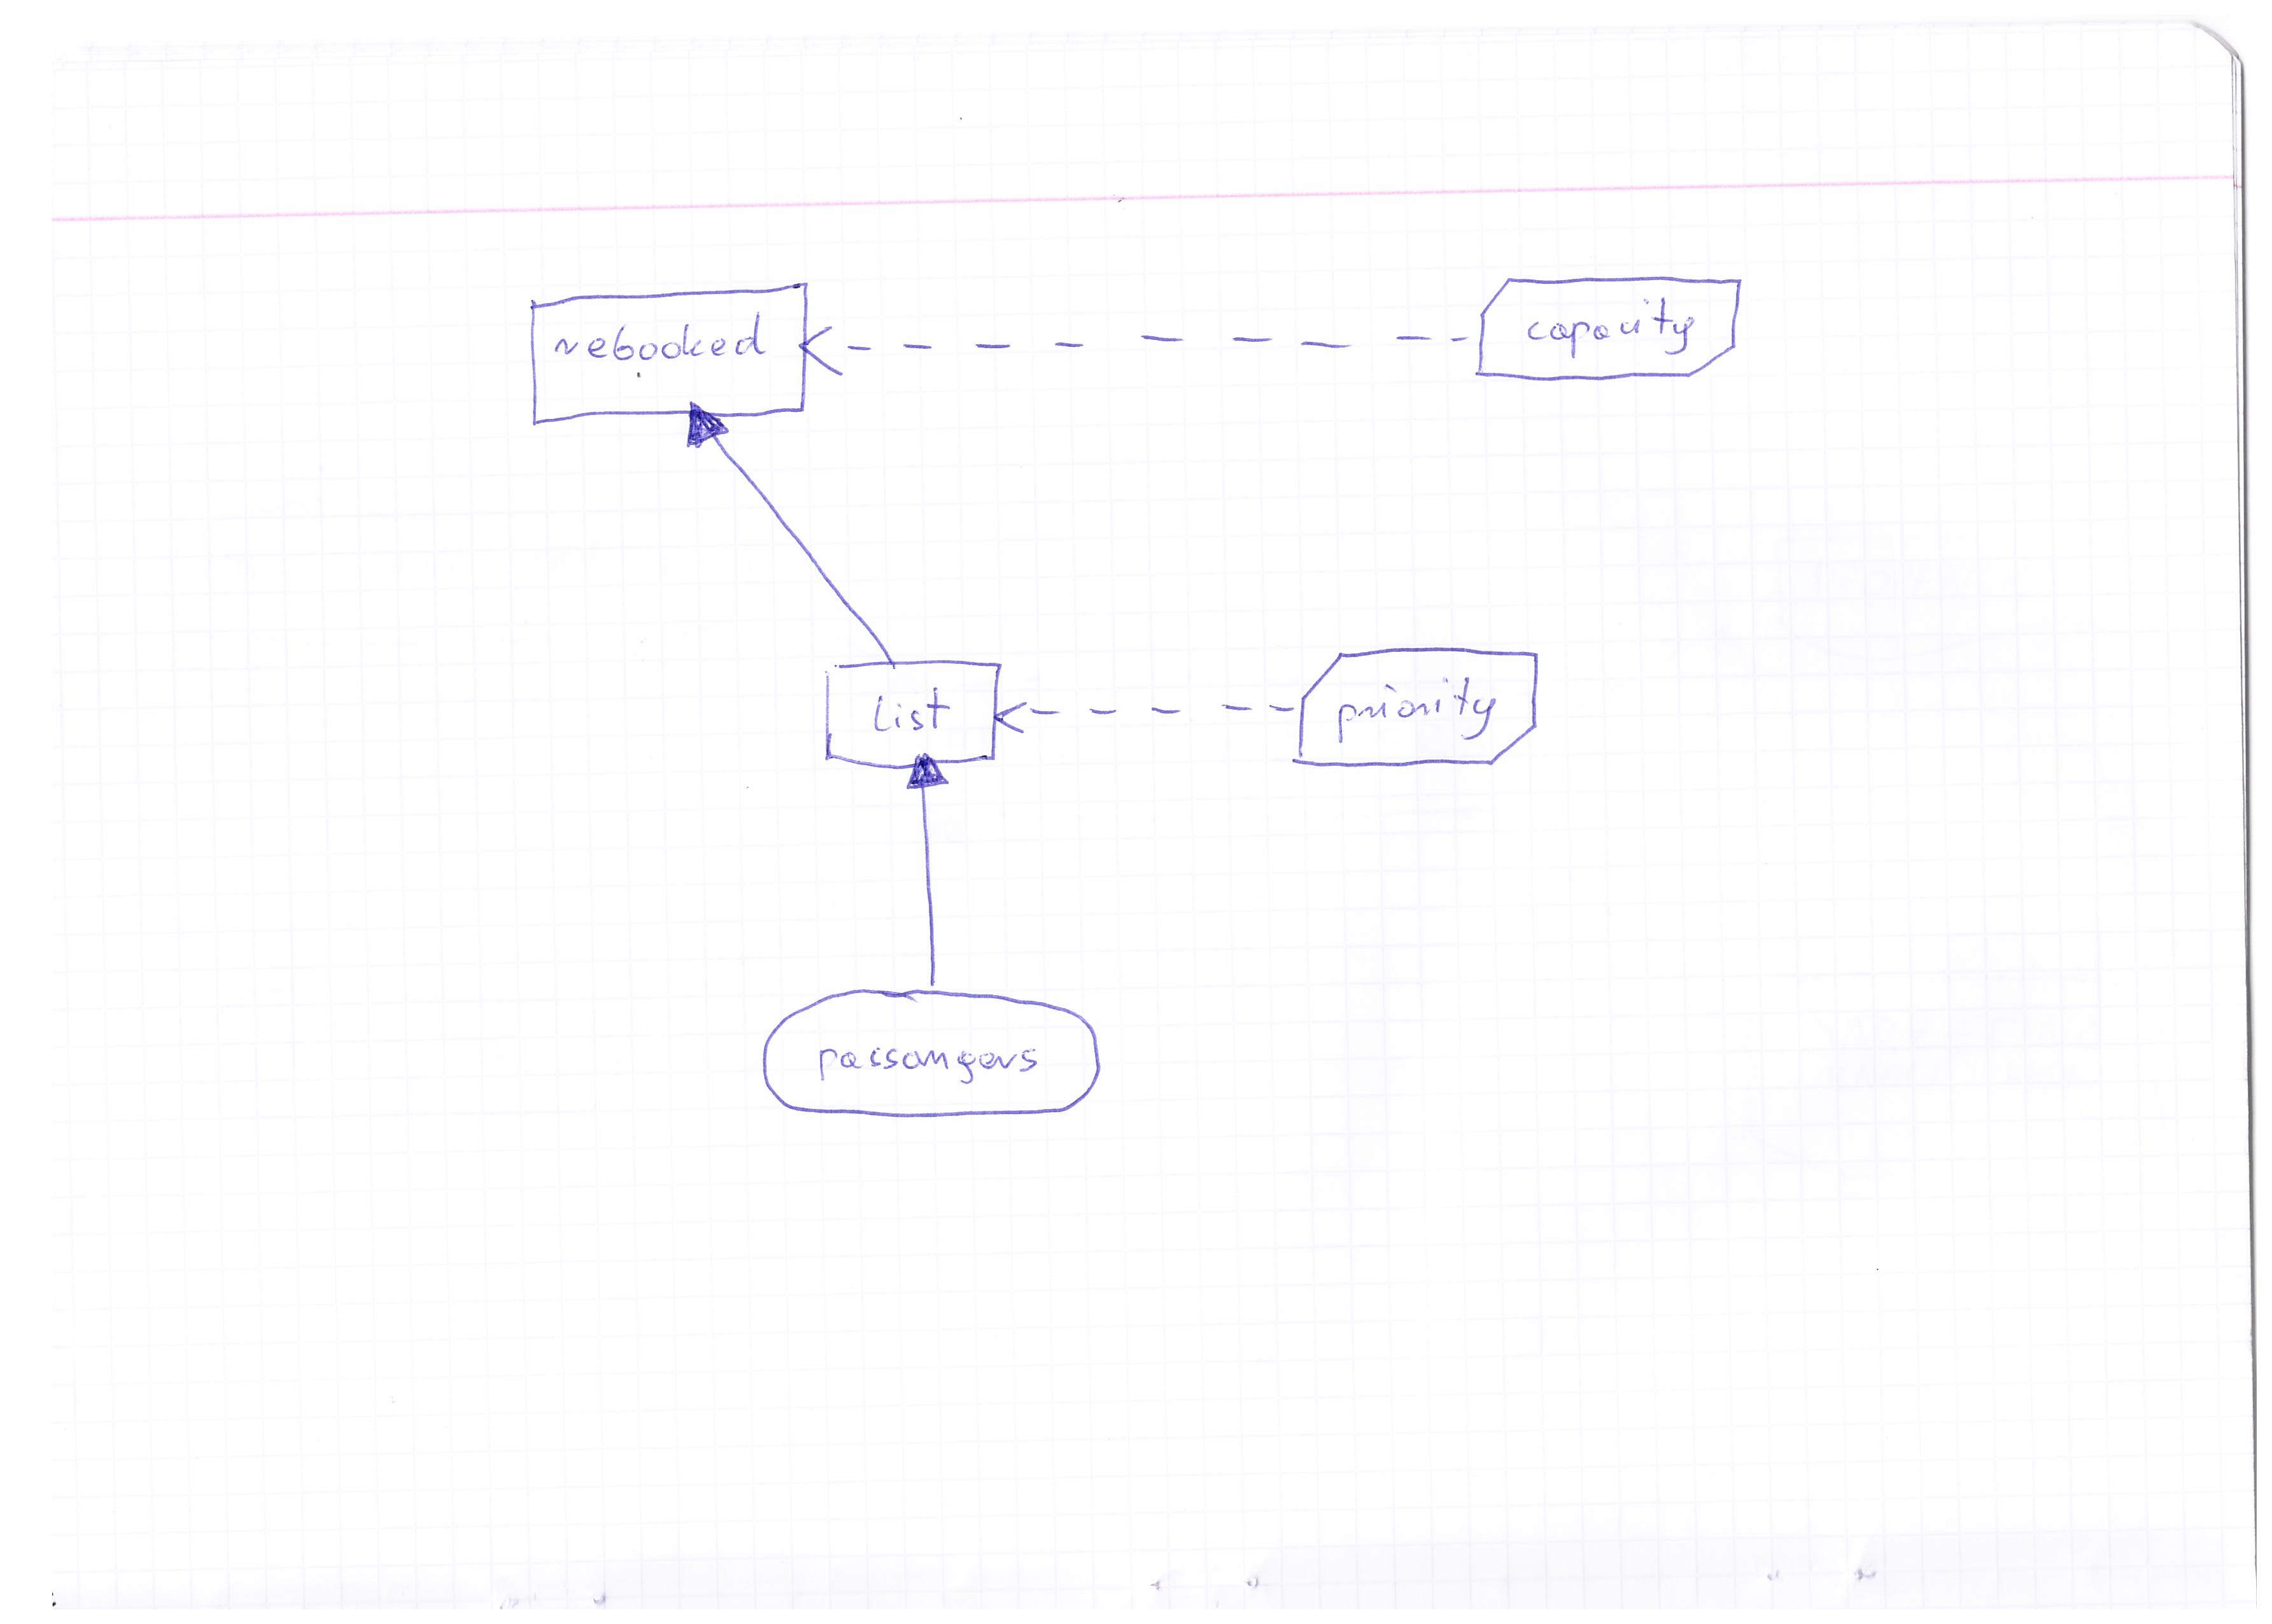arrow_information_requirement: (675, 401, 907, 666), (896, 752, 954, 990)
arrow_knowledge_requirement: (792, 318, 1474, 376), (988, 692, 1300, 747)
node_decision: (508, 279, 815, 429), (808, 656, 1010, 768)
node_input_data: (740, 982, 1126, 1130)
node_knowledge_model: (1292, 638, 1559, 780), (1471, 264, 1761, 392)
text: (801, 1023, 1053, 1097), (548, 309, 775, 380), (1509, 290, 1703, 362), (1327, 677, 1501, 749), (863, 677, 949, 738)
